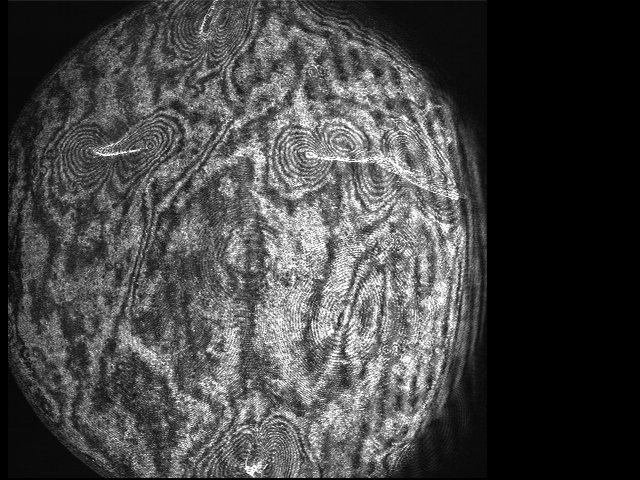plume: (58, 122, 180, 183), (268, 116, 369, 189), (162, 1, 255, 66)
